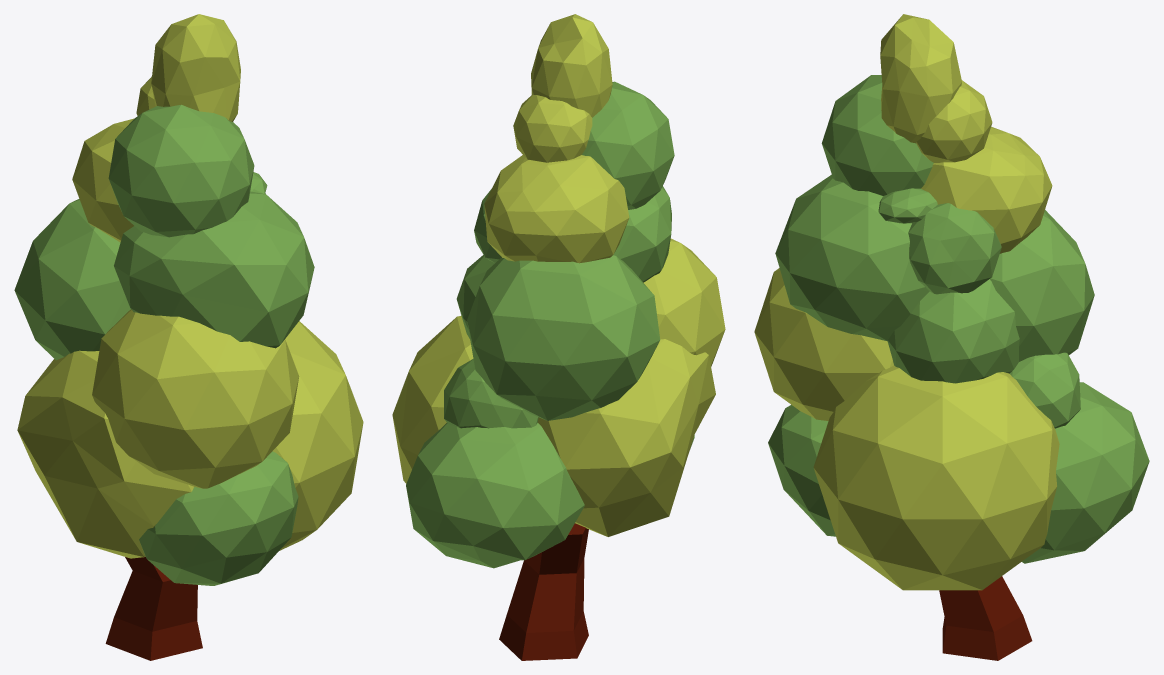
Rendered from New_Tree_1.fbx.
The picture shows the model from 3 angles, left to right: view 1: azimuth 30°, elevation 25°; view 2: azimuth 150°, elevation 25°; view 3: azimuth 270°, elevation 25°; orthographic projection. The views are drawn at different scales.
Visible parts, largest first — view 1: Icosphere.007, Icosphere.011, Icosphere.006, Icosphere.014, Icosphere.012, Icosphere.008, Icosphere.004, Icosphere.018, Cylinder.004, Icosphere.013; view 2: Icosphere.008, Icosphere.005, Icosphere.006, Icosphere.013, Cylinder.004, Icosphere.014, Icosphere.018, Icosphere.007, Icosphere.004, Icosphere.017, Icosphere.010, Icosphere.011 (+2 smaller); view 3: Icosphere.004, Icosphere.011, Icosphere.005, Icosphere.007, Icosphere.009, Icosphere.008, Icosphere.013, Icosphere.014, Icosphere.018, Icosphere.015, Cylinder.004, Icosphere.012 (+3 smaller).
Part boxes in pixels (x1,y1,x2,y2): Icosphere.007: (92,309,299,488); Icosphere.011: (114,191,314,348); Icosphere.006: (17,350,193,558); Icosphere.014: (108,104,254,237); Icosphere.012: (139,451,298,585); Icosphere.008: (14,199,130,360); Icosphere.004: (273,321,363,550); Icosphere.018: (151,14,240,121); Cylinder.004: (105,557,202,660); Icosphere.013: (72,118,134,242); Icosphere.008: (467,254,660,420); Icosphere.005: (406,423,584,568); Icosphere.006: (537,339,715,536); Icosphere.013: (484,155,629,263); Cylinder.004: (499,523,588,660); Icosphere.014: (582,81,674,209); Icosphere.018: (531,14,612,117); Icosphere.007: (643,238,725,366); Icosphere.004: (392,316,473,483); Icosphere.017: (513,95,592,162); Icosphere.010: (444,359,538,428); Icosphere.011: (614,186,671,282); Icosphere.004: (813,365,1059,590); Icosphere.011: (775,174,929,341); Icosphere.005: (1022,382,1149,563); Icosphere.007: (754,268,893,420); Icosphere.009: (887,279,1019,383); Icosphere.008: (990,210,1094,361); Icosphere.013: (921,126,1052,253); Icosphere.014: (821,75,933,195); Icosphere.018: (880,14,961,143); Icosphere.015: (908,203,1001,294); Cylinder.004: (939,576,1032,660); Icosphere.012: (768,404,835,536).
Bounding box in the file's own units: 307 × 628 × 359.
